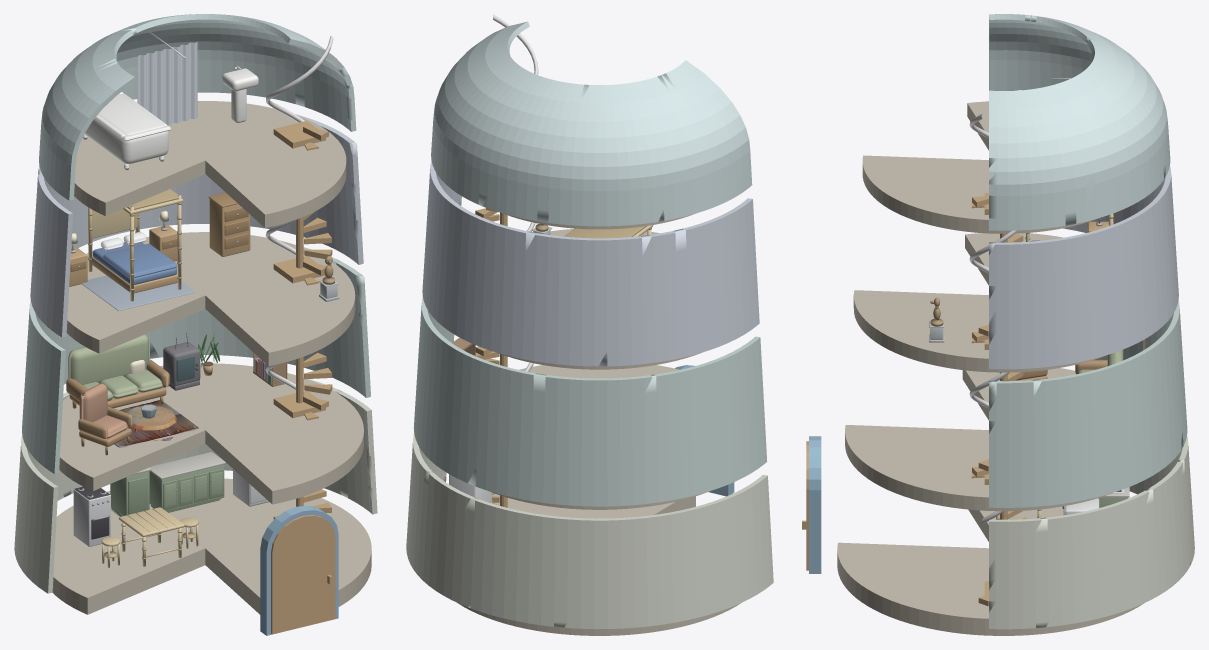
File: squidward-interior-layout-v8.glb
3 views of the same model, side by side, from view 1: azimuth 30°, elevation 25°; view 2: azimuth 150°, elevation 25°; view 3: azimuth 270°, elevation 25° (orthographic).
Visible parts, largest first — view 1: floor_2, bath_wall_back, floor_4, floor_3, floor_1, bedroom_wall_back, living_wall_back, kitchen_wall_back, door_panel, bath_shower-curtain_00, bath_bathtub_00, living_sofa_04 (+28 smaller); view 2: living_wall_back, bath_wall_back, bedroom_wall_back, kitchen_wall_back, floor_1, floor_2, floor_3, bedroom_bed_29, floor_4; view 3: bath_wall_back, living_wall_back, bedroom_wall_back, kitchen_wall_back, floor_1, floor_2, floor_3, floor_4, door_frame, stairs_whole_stairs_handrail.
Part boxes in pixels (<box>): floor_2: <box>59,363,363,504</box>; bath_wall_back: <box>39,14,356,200</box>; floor_4: <box>74,101,346,227</box>; floor_3: <box>66,232,355,365</box>; floor_1: <box>52,478,371,614</box>; bedroom_wall_back: <box>30,114,363,337</box>; living_wall_back: <box>22,247,370,473</box>; kitchen_wall_back: <box>14,379,377,593</box>; door_panel: <box>271,515,335,634</box>; bath_shower-curtain_00: <box>137,41,197,125</box>; bath_bathtub_00: <box>84,93,168,164</box>; living_sofa_04: <box>68,334,148,384</box>; living_wall_back: <box>413,297,767,506</box>; bath_wall_back: <box>431,21,752,226</box>; bedroom_wall_back: <box>422,160,759,366</box>; kitchen_wall_back: <box>406,433,773,629</box>; floor_1: <box>458,494,740,635</box>; floor_2: <box>490,365,708,509</box>; floor_3: <box>497,229,701,369</box>; bedroom_bed_29: <box>564,226,646,238</box>; floor_4: <box>504,214,693,229</box>; bath_wall_back: <box>988,14,1170,230</box>; living_wall_back: <box>989,301,1187,507</box>; bedroom_wall_back: <box>989,166,1178,369</box>; kitchen_wall_back: <box>989,436,1194,629</box>; floor_1: <box>837,506,1143,635</box>; floor_2: <box>845,368,1111,511</box>; floor_3: <box>853,233,1105,372</box>; floor_4: <box>862,101,1096,233</box>; door_frame: <box>809,436,821,573</box>; stairs_whole_stairs_handrail: <box>969,114,1016,523</box>.
Bounding box in the file's own units: 3.08 × 4.56 × 3.16.
Materials: 114 (2 with a texture image).
